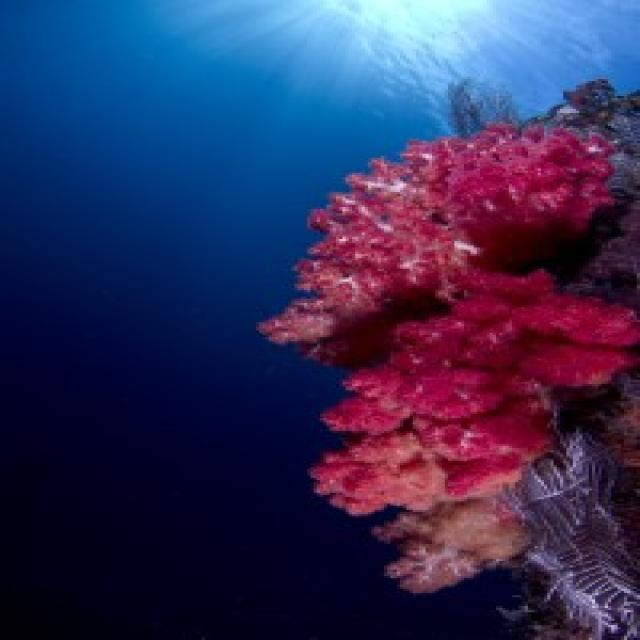Coral: (308, 267, 640, 593), (257, 121, 617, 367)
